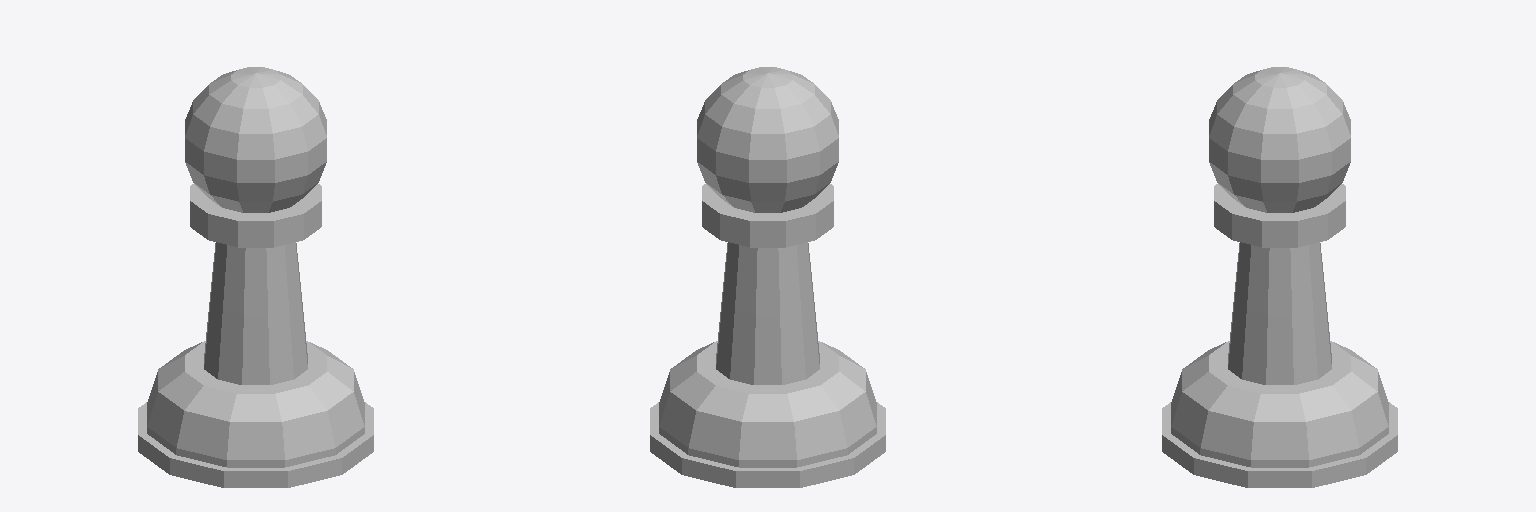
File: black.obj
The picture shows the model from 3 angles: view 1: azimuth 30°, elevation 25°; view 2: azimuth 150°, elevation 25°; view 3: azimuth 270°, elevation 25°; orthographic projection.
Bounding box in the file's own units: 0.1256 × 0.215 × 0.1256.